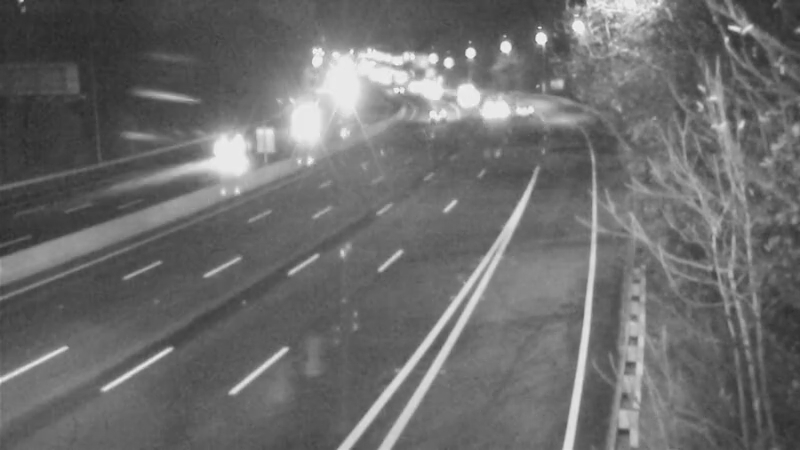vehicle: (437, 73, 487, 123), (468, 87, 518, 137), (496, 82, 546, 132), (407, 87, 457, 137), (201, 122, 251, 172), (281, 98, 331, 148)
